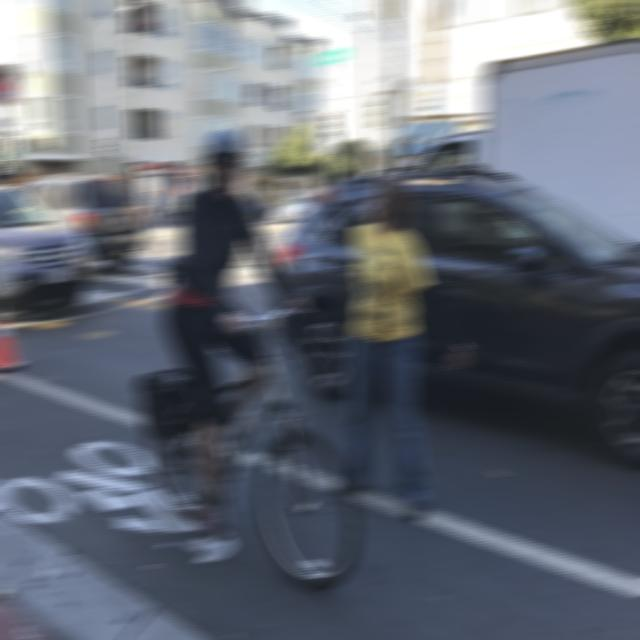Without Helmet: (200, 122, 251, 198)
